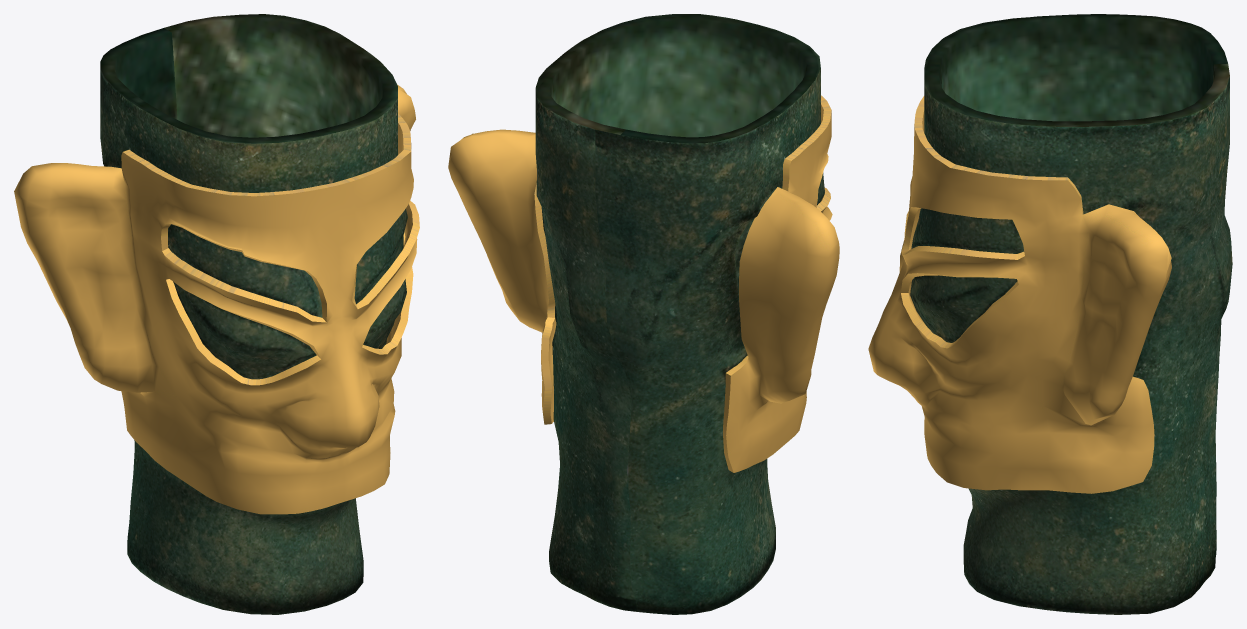
The model's file is 三星堆.glb.
The picture shows the model from 3 angles, left to right: view 1: azimuth 30°, elevation 25°; view 2: azimuth 150°, elevation 25°; view 3: azimuth 270°, elevation 25°; orthographic projection. The views are drawn at different scales.
Parts seen in each view (by area): view 1: face_SM_SXD_FACE_0, sxd_SM_SXD_FACE_0; view 2: sxd_SM_SXD_FACE_0, face_SM_SXD_FACE_0; view 3: sxd_SM_SXD_FACE_0, face_SM_SXD_FACE_0.
Part boxes in pixels (x1=…): face_SM_SXD_FACE_0: x1=14, y1=84, x2=419, y2=514; sxd_SM_SXD_FACE_0: x1=100, y1=14, x2=407, y2=614; sxd_SM_SXD_FACE_0: x1=535, y1=14, x2=824, y2=614; face_SM_SXD_FACE_0: x1=448, y1=95, x2=839, y2=472; sxd_SM_SXD_FACE_0: x1=910, y1=14, x2=1232, y2=614; face_SM_SXD_FACE_0: x1=868, y1=96, x2=1171, y2=493.
Bounding box in the file's own units: 58 × 69.8 × 46.53.
1 material, 1 textured.
